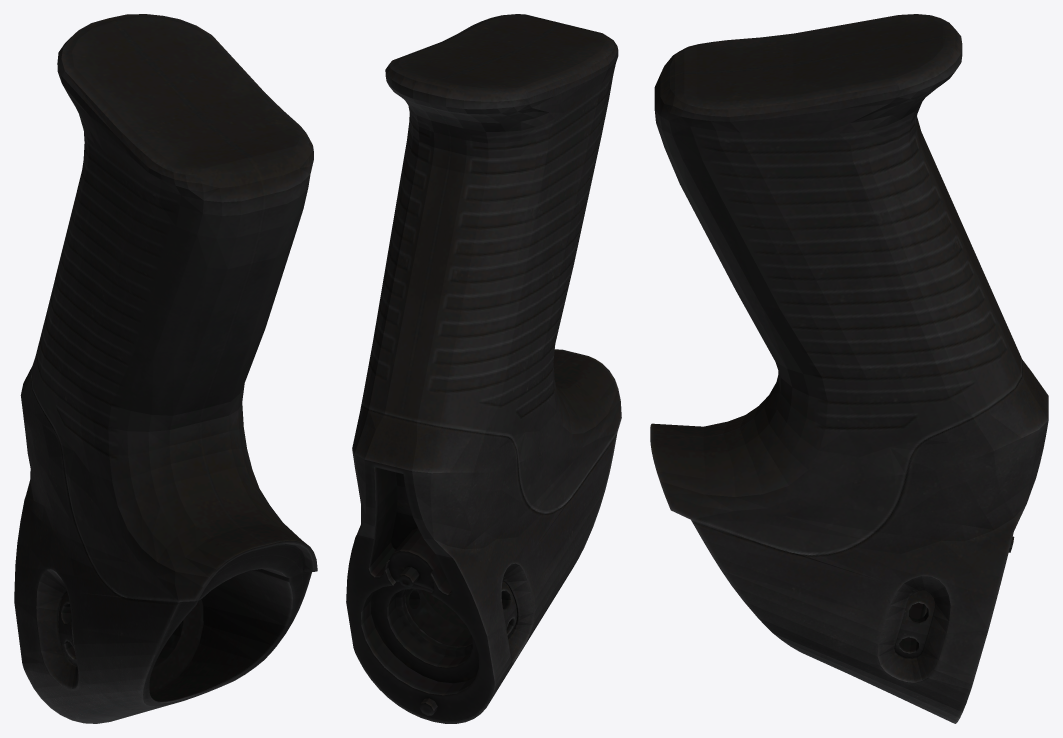
The picture shows the model from 3 angles, left to right: view 1: azimuth 30°, elevation 25°; view 2: azimuth 150°, elevation 25°; view 3: azimuth 270°, elevation 25°; orthographic projection. The views are drawn at different scales.
Parts seen in each view (by area): view 1: TW_6259c3d8012d6678ec38eeb8_PZ_Import; view 2: TW_6259c3d8012d6678ec38eeb8_PZ_Import; view 3: TW_6259c3d8012d6678ec38eeb8_PZ_Import.
Part boxes in pixels (bbox=[...]): TW_6259c3d8012d6678ec38eeb8_PZ_Import: bbox=[14, 14, 317, 723]; TW_6259c3d8012d6678ec38eeb8_PZ_Import: bbox=[346, 14, 621, 723]; TW_6259c3d8012d6678ec38eeb8_PZ_Import: bbox=[650, 14, 1048, 723].
Bounding box in the file's own units: 0.0219 × 0.0502 × 0.0944.
Materials: 1 (1 with a texture image).
